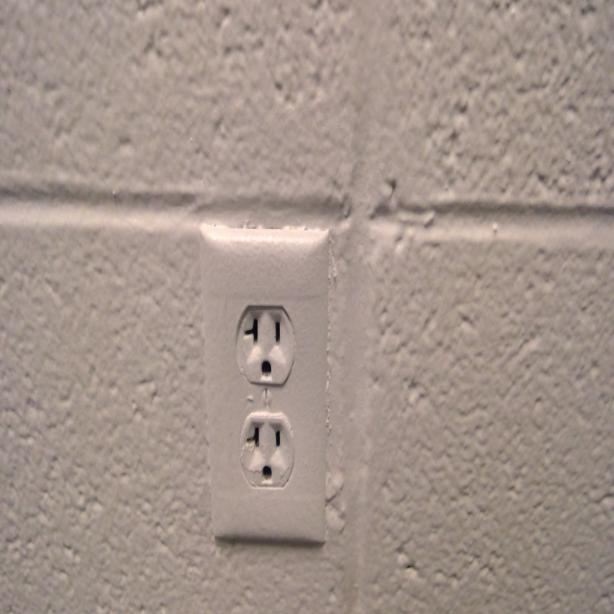typeb: (239, 305, 292, 390), (242, 416, 296, 494)
